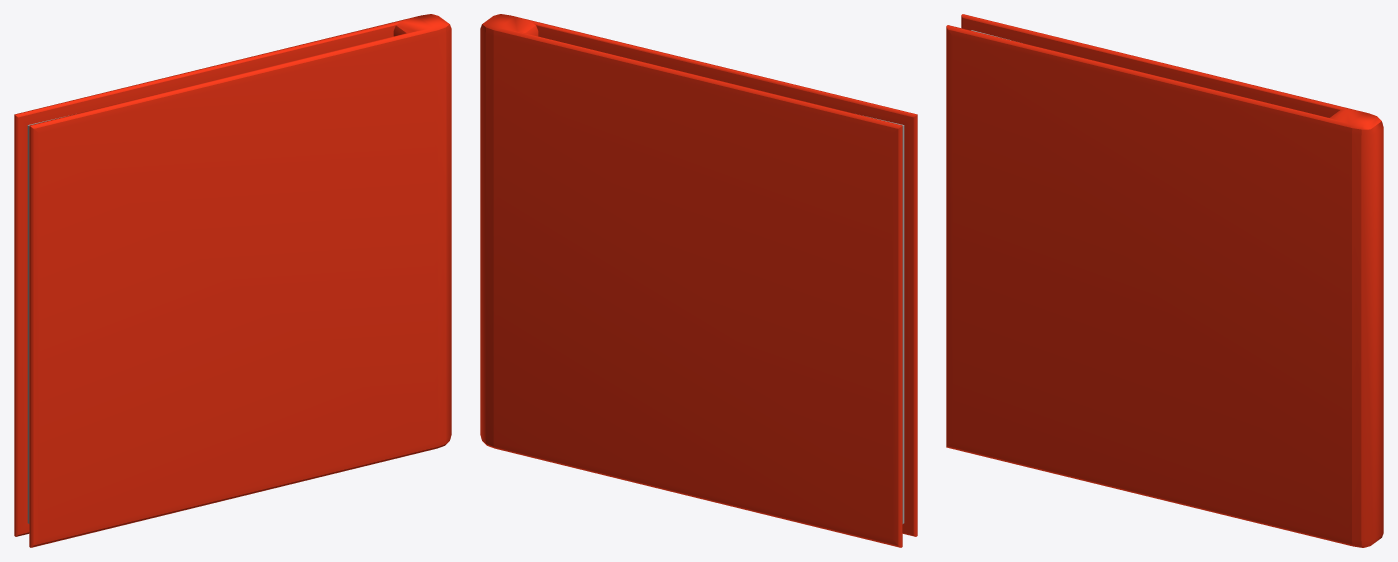
The model's file is book_3.glb.
3 renders of one model, left to right at view 1: azimuth 30°, elevation 25°; view 2: azimuth 150°, elevation 25°; view 3: azimuth 330°, elevation 25°, orthographic.
Visible parts, largest first — view 1: Cube.005; view 2: Cube.005; view 3: Cube.005.
Part boxes in pixels (left/top/right/bottom): Cube.005: left=14, top=14, right=451, bottom=547; Cube.005: left=480, top=14, right=917, bottom=547; Cube.005: left=946, top=14, right=1383, bottom=547.
Size of the model in its own units: 0.2012 by 0.1911 by 0.0152.
Materials: 1 (1 with a texture image).
